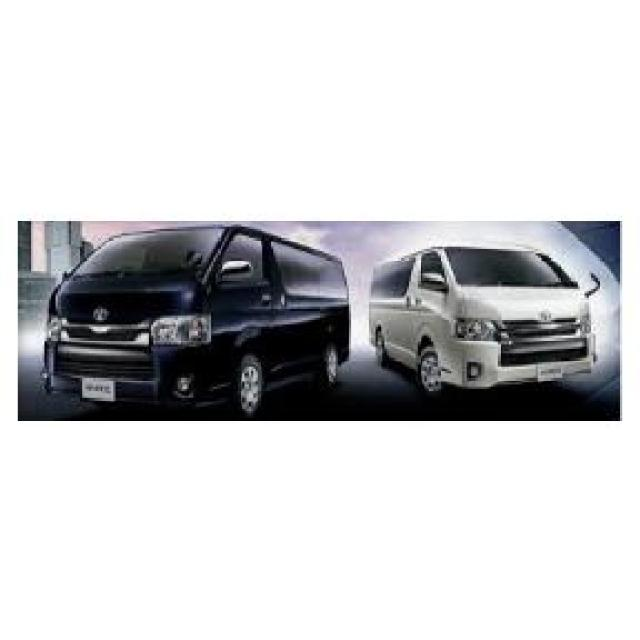Van: (367, 242, 602, 399)
